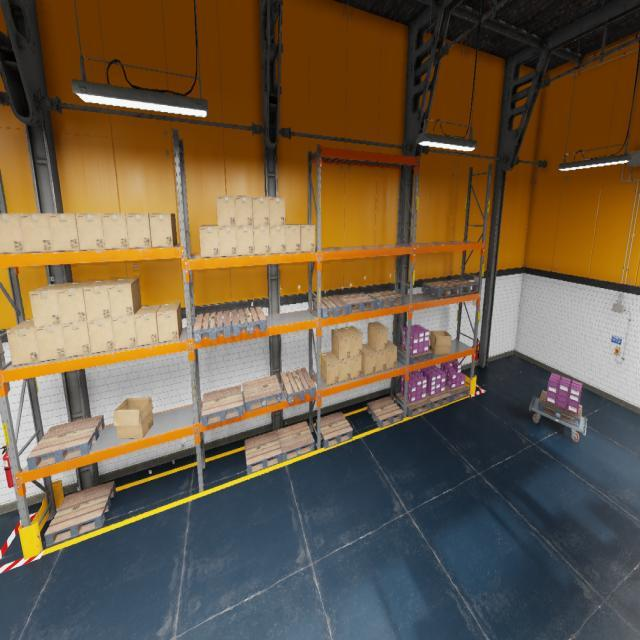box: (113, 394, 155, 440), (30, 291, 61, 325), (26, 217, 53, 255), (0, 213, 24, 254), (7, 332, 39, 362), (54, 215, 79, 252), (81, 215, 106, 252), (155, 304, 180, 340), (113, 283, 141, 315), (331, 330, 362, 356), (62, 292, 86, 325), (40, 328, 66, 358), (86, 292, 111, 322), (107, 216, 129, 249), (131, 216, 152, 250), (112, 319, 136, 348), (366, 348, 397, 370), (88, 322, 112, 350), (429, 328, 453, 355), (153, 217, 176, 245), (199, 227, 221, 256), (215, 195, 235, 226), (340, 356, 364, 380), (66, 328, 88, 353), (237, 227, 255, 257), (252, 199, 271, 226), (322, 352, 338, 384), (369, 322, 388, 348), (235, 196, 252, 225), (220, 228, 237, 257), (270, 198, 286, 227), (254, 228, 272, 253), (137, 319, 157, 341), (271, 227, 286, 255), (286, 227, 302, 253), (303, 226, 316, 254)
